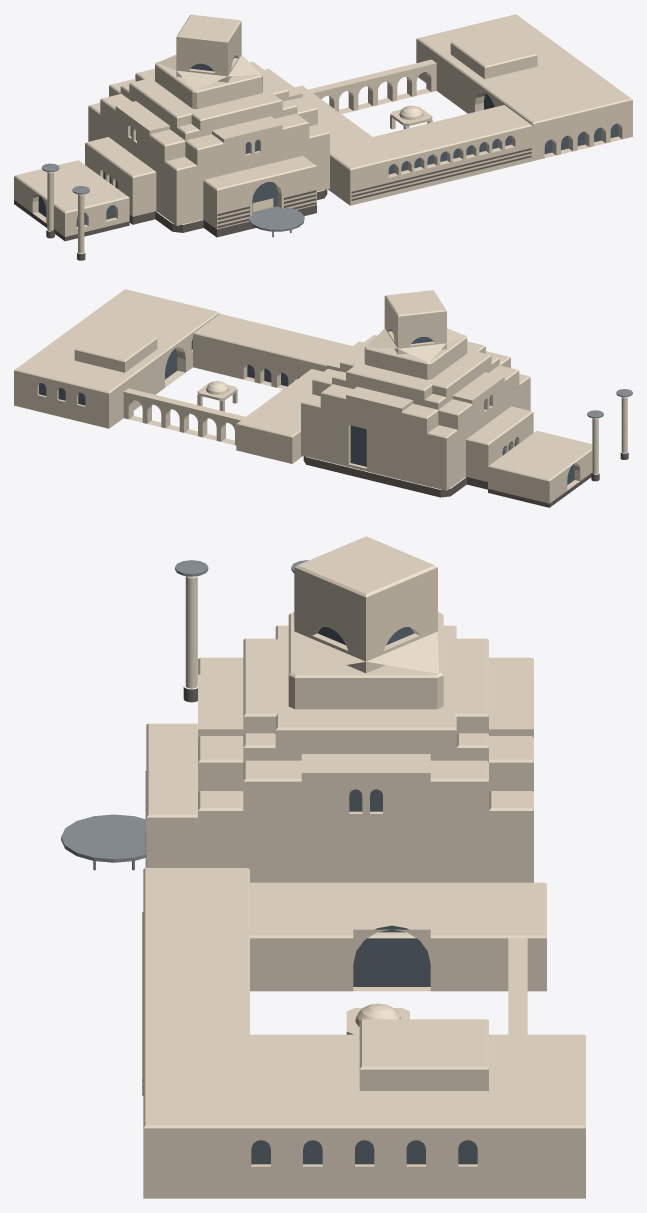
File: doha-museum-of-islamic-art.glb
3 views of the same model, one above another, from view 1: azimuth 30°, elevation 25°; view 2: azimuth 150°, elevation 25°; view 3: azimuth 270°, elevation 25° (orthographic). The views are drawn at different scales.
Parts seen in each view (by area): view 1: Museum of Islamic Art; view 2: Museum of Islamic Art; view 3: Museum of Islamic Art.
Part boxes in pixels (x1=…): Museum of Islamic Art: x1=14, y1=14, x2=632, y2=260; Museum of Islamic Art: x1=14, y1=289, x2=632, y2=507; Museum of Islamic Art: x1=61, y1=536, x2=585, y2=1198.
Bounding box in the file's own units: 186 × 50.35 × 81.2.
